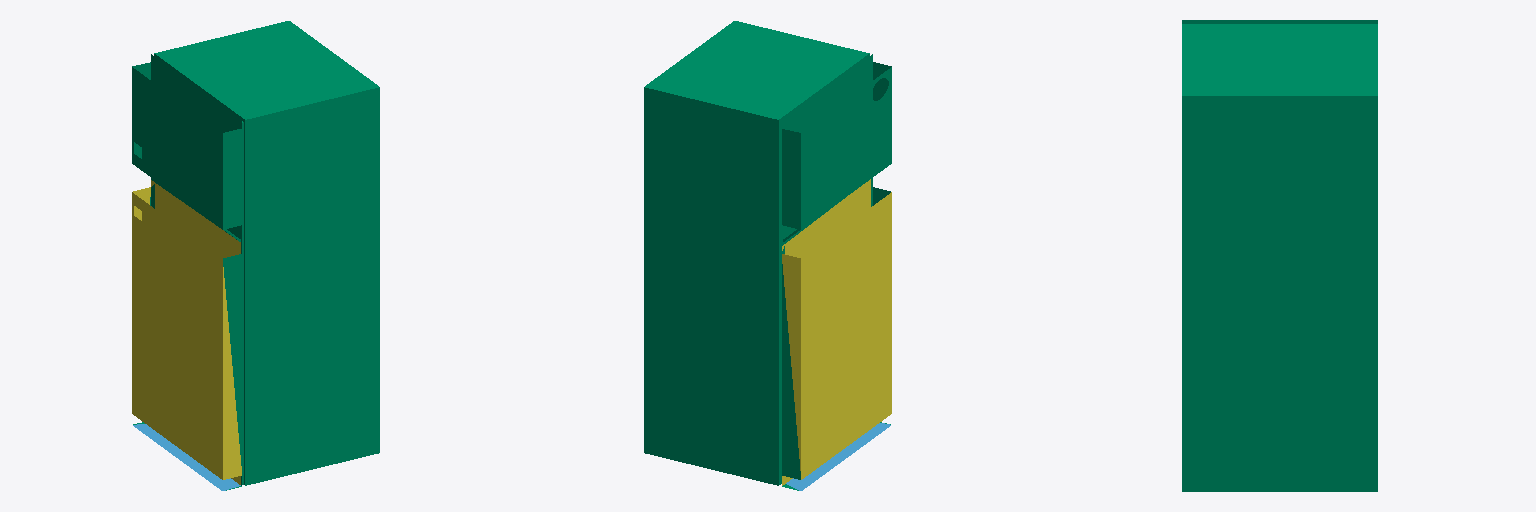
The robot description file, URDF, robot "partnet_454032e47ff1280c95bea7c29e873d16":
<?xml version="1.0" ?>
<robot name="partnet_454032e47ff1280c95bea7c29e873d16">
	<link name="base"/>
	<link name="link_0">
		<visual name="frame-7">
			<origin xyz="0 0 0"/>
			<geometry>
				<mesh filename="textured_objs/new-5.obj"/>
			</geometry>
		</visual>
		<visual name="frame-7">
			<origin xyz="0 0 0"/>
			<geometry>
				<mesh filename="textured_objs/new-0.obj"/>
			</geometry>
		</visual>
		<collision>
			<origin xyz="0 0 0"/>
			<geometry>
				<mesh filename="textured_objs/new-5.obj"/>
			</geometry>
		</collision>
		<collision>
			<origin xyz="0 0 0"/>
			<geometry>
				<mesh filename="textured_objs/new-0.obj"/>
			</geometry>
		</collision>
	</link>
	<joint name="joint_0" type="fixed">
		<origin rpy="1.570796326794897 0 -1.570796326794897" xyz="0 0 0"/>
		<child link="link_0"/>
		<parent link="base"/>
	</joint>
	<link name="link_1">
		<visual name="door_frame-12">
			<origin xyz="-0.5243458088817847 -0.7835690000000002 -0.3637486649190118"/>
			<geometry>
				<mesh filename="textured_objs/new-3.obj"/>
			</geometry>
		</visual>
		<visual name="handle-13">
			<origin xyz="-0.5243458088817847 -0.7835690000000002 -0.3637486649190118"/>
			<geometry>
				<mesh filename="textured_objs/new-2.obj"/>
			</geometry>
		</visual>
		<collision>
			<origin xyz="-0.5243458088817847 -0.7835690000000002 -0.3637486649190118"/>
			<geometry>
				<mesh filename="textured_objs/new-3.obj"/>
			</geometry>
		</collision>
		<collision>
			<origin xyz="-0.5243458088817847 -0.7835690000000002 -0.3637486649190118"/>
			<geometry>
				<mesh filename="textured_objs/new-2.obj"/>
			</geometry>
		</collision>
	</link>
	<joint name="joint_1" type="revolute">
		<origin xyz="0.5243458088817847 0.7835690000000002 0.3637486649190118"/>
		<axis xyz="0 1 0"/>
		<child link="link_1"/>
		<parent link="link_0"/>
		<limit lower="-0.0" upper="3.141592653589793"/>
	</joint>
	<link name="link_2">
		<visual name="door_frame-10">
			<origin xyz="-0.5243458088817847 -0.7835690000000002 -0.3637486649190118"/>
			<geometry>
				<mesh filename="textured_objs/new-4.obj"/>
			</geometry>
		</visual>
		<visual name="handle-11">
			<origin xyz="-0.5243458088817847 -0.7835690000000002 -0.3637486649190118"/>
			<geometry>
				<mesh filename="textured_objs/new-1.obj"/>
			</geometry>
		</visual>
		<collision>
			<origin xyz="-0.5243458088817847 -0.7835690000000002 -0.3637486649190118"/>
			<geometry>
				<mesh filename="textured_objs/new-4.obj"/>
			</geometry>
		</collision>
		<collision>
			<origin xyz="-0.5243458088817847 -0.7835690000000002 -0.3637486649190118"/>
			<geometry>
				<mesh filename="textured_objs/new-1.obj"/>
			</geometry>
		</collision>
	</link>
	<joint name="joint_2" type="revolute">
		<origin xyz="0.5243458088817847 0.7835690000000002 0.3637486649190118"/>
		<axis xyz="0 1 0"/>
		<child link="link_2"/>
		<parent link="link_0"/>
		<limit lower="-0.0" upper="3.141592653589793"/>
	</joint>
</robot>

--- Facts derived from the render (not from the file) ---
The picture shows the robot from 3 angles, left to right: view 1: azimuth 30°, elevation 25°; view 2: azimuth 150°, elevation 25°; view 3: azimuth 270°, elevation 25°; orthographic projection.
Model partnet_454032e47ff1280c95bea7c29e873d16 with 4 links and 3 joints (2 revolute, 1 fixed), rooted at base, posed all joints at 0.
Links seen in each view (by area): view 1: link_1, link_2, link_0; view 2: link_1, link_2, link_0; view 3: link_1.
Link boxes in pixels (left/top/right/bottom): link_1: left=132, top=21, right=379, bottom=490; link_2: left=132, top=180, right=241, bottom=484; link_0: left=133, top=424, right=240, bottom=490; link_1: left=644, top=21, right=891, bottom=490; link_2: left=782, top=179, right=891, bottom=485; link_0: left=786, top=423, right=890, bottom=490; link_1: left=1182, top=20, right=1377, bottom=491.
Size in the robot's own frame: 0.7784 by 0.7784 by 1.73 metres.
Meshes: 6 distinct files referenced, 4 mesh visuals loaded (4 OBJ); not drawn: 2 (reference not matched to a file when rendering).
